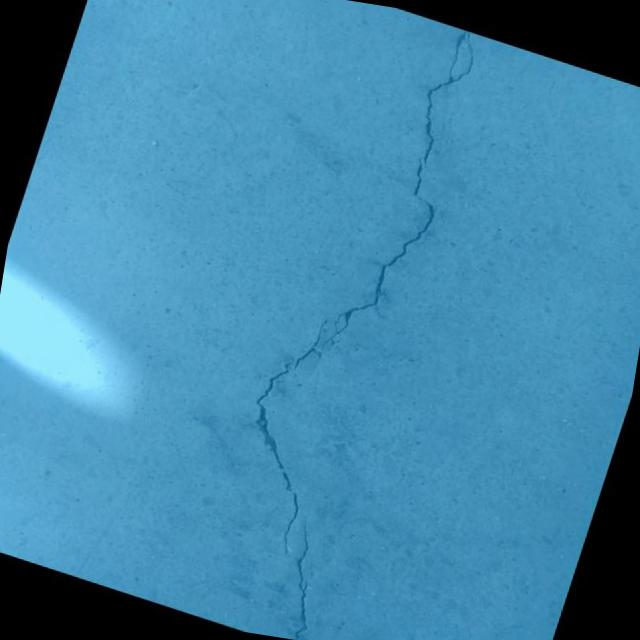crack: (210, 0, 495, 578), (266, 511, 343, 640)
